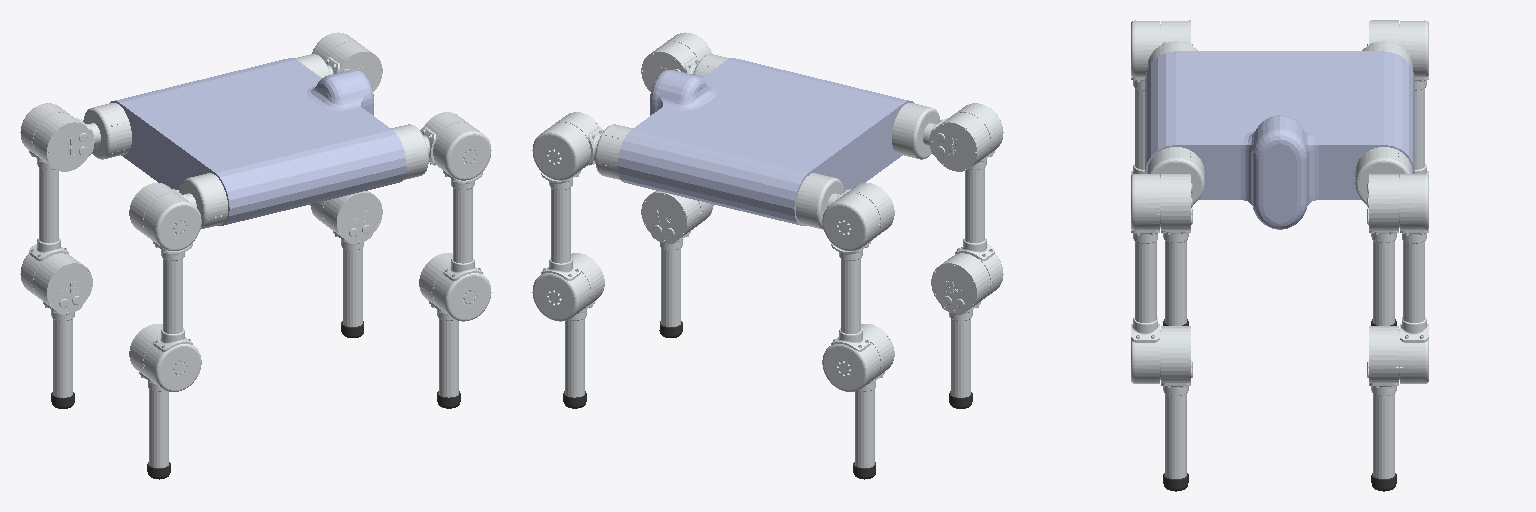
The robot description file, URDF, robot "dog1":
<?xml version="1.0" encoding="utf-8"?>
<robot
  name="dog1">
  <link
    name="base_link">
    <inertial>
      <origin
        xyz="0.018041 -3.0664E-06 0.1542"
        rpy="0 0 0" />
      <mass
        value="15.15" />
      <inertia
        ixx="0.3104"
        ixy="-8.4181E-07"
        ixz="-1.173E-07"
        iyy="0.5261"
        iyz="-2.9373E-06"
        izz="0.7498" />
    </inertial>
    <visual>
      <origin
        xyz="0 0 0"
        rpy="0 0 0" />
      <geometry>
        <mesh
          filename="../meshes/base_link.STL" />
      </geometry>
      <material
        name="silver">
        <color
          rgba="0.79216 0.81961 0.93333 1" />
      </material>
    </visual>
    <collision>
      <origin
        xyz="0 0 0"
        rpy="0 0 0" />
      <geometry>
        <mesh
          filename="../meshes/base_link.STL" />
      </geometry>
    </collision>
  </link>
  <link
    name="Front_Left_Hip">
    <inertial>
      <origin
        xyz="3.0188E-05 0.0046117 0.045906"
        rpy="0 0 0" />
      <mass
        value="5.55" />
      <inertia
        ixx="0.01586"
        ixy="-2.3899E-06"
        ixz="9.7549E-07"
        iyy="0.02045"
        iyz="-5.0146E-06"
        izz="0.01987" />
    </inertial>
    <visual>
      <origin
        xyz="0 0 0"
        rpy="0 0 0" />
      <geometry>
        <mesh
          filename="../meshes/Front_Left_Hip.STL" />
      </geometry>
      <material
        name="grey">
        <color
          rgba="0.89804 0.91765 0.92941 1" />
      </material>
    </visual>
    <collision>
      <origin
        xyz="0 0 0"
        rpy="0 0 0" />
      <geometry>
        <mesh
          filename="../meshes/Front_Left_Hip.STL" />
      </geometry>
    </collision>
  </link>
  <joint
    name="Joint_1_0"
    type="revolute">
    <origin
      xyz="0.37861 0.28195 0.15421"
      rpy="0 1.5708 0" />
    <parent
      link="base_link" />
    <child
      link="Front_Left_Hip" />
    <axis
      xyz="0 0 1" />
    <limit
      lower="-0.45"
      upper="0.45"
      effort="408"
      velocity="3.27" />
  </joint>
  <link
    name="Front_Left_Thigh">
    <inertial>
      <origin
        xyz="-1.1102E-16 0.228 -0.031844"
        rpy="0 0 0" />
      <mass
        value="5.5" />
      <inertia
        ixx="0.01587"
        ixy="-1.5776E-09"
        ixz="1.5572E-18"
        iyy="0.01483"
        iyz="3.4061E-18"
        izz="0.02377" />
    </inertial>
    <visual>
      <origin
        xyz="0 0 0"
        rpy="0 0 0" />
      <geometry>
        <mesh
          filename="../meshes/Front_Left_Thigh.STL" />
      </geometry>
      <material
        name="grey">
        <color
          rgba="0.89804 0.91765 0.92941 1" />
      </material>
    </visual>
    <collision>
      <origin
        xyz="0 0 0"
        rpy="0 0 0" />
      <geometry>
        <mesh
          filename="../meshes/Front_Left_Thigh.STL" />
      </geometry>
    </collision>
  </link>
  <joint
    name="Joint_1_1"
    type="revolute">
    <origin
      xyz="0 0.122 0.109"
      rpy="-1.5708 -1.5708 0" />
    <parent
      link="Front_Left_Hip" />
    <child
      link="Front_Left_Thigh" />
    <axis
      xyz="0 0 1" />
    <limit
      lower="-1.2"
      upper="1.2"
      effort="408"
      velocity="3.27" />
  </joint>
  <link
    name="Front_Left_Calf">
    <inertial>
      <origin
        xyz="2.895E-06 0.021826 0.034587"
        rpy="0 0 0" />
      <mass
        value="3.11" />
      <inertia
        ixx="0.009868"
        ixy="-1.0337E-07"
        ixz="-3.5741E-07"
        iyy="0.00872"
        iyz="3.6081E-06"
        izz="0.014035" />
    </inertial>
    <visual>
      <origin
        xyz="0 0 0"
        rpy="0 0 0" />
      <geometry>
        <mesh
          filename="../meshes/Front_Left_Calf.STL" />
      </geometry>
      <material
        name="grey">
        <color
          rgba="0.89804 0.91765 0.92941 1" />
      </material>
    </visual>
    <collision>
      <origin
        xyz="0 0 0"
        rpy="0 0 0" />
      <geometry>
        <mesh
          filename="../meshes/Front_Left_Calf.STL" />
      </geometry>
    </collision>
  </link>
  <joint
    name="Joint_1_2"
    type="revolute">
    <origin
      xyz="0 0.456 -0.149"
      rpy="0 0 0" />
    <parent
      link="Front_Left_Thigh" />
    <child
      link="Front_Left_Calf" />
    <axis
      xyz="0 0 1" />
    <limit
      lower="0"
      upper="1.5"
      effort="408"
      velocity="3.27" />
  </joint>
  <link
    name="Front_Left_Foot">
    <inertial>
      <origin
        xyz="5.5511E-17 0 0.0252"
        rpy="0 0 0" />
      <mass
        value="0.09" />
      <inertia
        ixx="3.6266E-05"
        ixy="-5.626E-22"
        ixz="3.5174E-20"
        iyy="3.6266E-05"
        iyz="4.5141E-21"
        izz="5.6492E-05" />
    </inertial>
    <visual>
      <origin
        xyz="0 0 0"
        rpy="0 0 0" />
      <geometry>
        <mesh
          filename="../meshes/Front_Left_Foot.STL" />
      </geometry>
      <material
        name="dark_grey">
        <color
          rgba="0.29804 0.29804 0.29804 1" />
      </material>
    </visual>
    <collision>
      <origin
        xyz="0 0 0"
        rpy="0 0 0" />
      <geometry>
        <mesh
          filename="../meshes/Front_Left_Foot.STL" />
      </geometry>
    </collision>
  </link>
  <joint
    name="Joint_1_3"
    type="fixed">
    <origin
      xyz="0 0.358 0.027"
      rpy="-1.5708 0 0" />
    <parent
      link="Front_Left_Calf" />
    <child
      link="Front_Left_Foot" />
    <axis
      xyz="0 0 0" />
  </joint>
  <link
    name="Front_Right_Hip">
    <inertial>
      <origin
        xyz="2.6625E-05 -0.0047247 0.045906"
        rpy="0 0 0" />
      <mass
        value="5.55" />
      <inertia
        ixx="0.01586"
        ixy="-2.3899E-06"
        ixz="7.6919E-07"
        iyy="0.02045"
        iyz="2.2016E-06"
        izz="0.01987" />
    </inertial>
    <visual>
      <origin
        xyz="0 0 0"
        rpy="0 0 0" />
      <geometry>
        <mesh
          filename="../meshes/Front_Right_Hip.STL" />
      </geometry>
      <material
        name="grey">
        <color
          rgba="0.89804 0.91765 0.92941 1" />
      </material>
    </visual>
    <collision>
      <origin
        xyz="0 0 0"
        rpy="0 0 0" />
      <geometry>
        <mesh
          filename="../meshes/Front_Right_Hip.STL" />
      </geometry>
    </collision>
  </link>
  <joint
    name="Joint_2_0"
    type="revolute">
    <origin
      xyz="0.37861 -0.28195 0.15421"
      rpy="0 1.5708 0" />
    <parent
      link="base_link" />
    <child
      link="Front_Right_Hip" />
    <axis
      xyz="0 0 1" />
    <limit
      lower="-0.45"
      upper="0.45"
      effort="408"
      velocity="3.27" />
  </joint>
  <link
    name="Front_Right_Thigh">
    <inertial>
      <origin
        xyz="1.1102E-16 -0.228 -0.031844"
        rpy="0 0 0" />
      <mass
        value="5.5" />
      <inertia
        ixx="0.01587"
        ixy="-1.5776E-09"
        ixz="-3.0209E-18"
        iyy="0.01483"
        iyz="2.2418E-18"
        izz="0.02377" />
    </inertial>
    <visual>
      <origin
        xyz="0 0 0"
        rpy="0 0 0" />
      <geometry>
        <mesh
          filename="../meshes/Front_Right_Thigh.STL" />
      </geometry>
      <material
        name="grey">
        <color
          rgba="0.89804 0.91765 0.92941 1" />
      </material>
    </visual>
    <collision>
      <origin
        xyz="0 0 0"
        rpy="0 0 0" />
      <geometry>
        <mesh
          filename="../meshes/Front_Right_Thigh.STL" />
      </geometry>
    </collision>
  </link>
  <joint
    name="Joint_2_1"
    type="revolute">
    <origin
      xyz="0 -0.122 0.109"
      rpy="1.5708 -1.5708 0" />
    <parent
      link="Front_Right_Hip" />
    <child
      link="Front_Right_Thigh" />
    <axis
      xyz="0 0 1" />
    <limit
      lower="-1.2"
      upper="1.2"
      effort="408"
      velocity="3.27" />
  </joint>
  <link
    name="Front_Right_Calf">
    <inertial>
      <origin
        xyz="-2.895E-06 -0.021826 0.034587"
        rpy="0 0 0" />
      <mass
        value="3.11" />
      <inertia
        ixx="0.009868"
        ixy="-1.0337E-07"
        ixz="3.5741E-07"
        iyy="0.00872"
        iyz="-3.6081E-06"
        izz="0.014035" />
    </inertial>
    <visual>
      <origin
        xyz="0 0 0"
        rpy="0 0 0" />
      <geometry>
        <mesh
          filename="../meshes/Front_Right_Calf.STL" />
      </geometry>
      <material
        name="grey">
        <color
          rgba="0.89804 0.91765 0.92941 1" />
      </material>
    </visual>
    <collision>
      <origin
        xyz="0 0 0"
        rpy="0 0 0" />
      <geometry>
        <mesh
          filename="../meshes/Front_Right_Calf.STL" />
      </geometry>
    </collision>
  </link>
  <joint
    name="Joint_2_2"
    type="revolute">
    <origin
      xyz="0 -0.456 -0.149"
      rpy="0 0 0" />
    <parent
      link="Front_Right_Thigh" />
    <child
      link="Front_Right_Calf" />
    <axis
      xyz="0 0 1" />
    <limit
      lower="0"
      upper="1.5"
      effort="408"
      velocity="3.27" />
  </joint>
  <link
    name="Front_Right_Foot">
    <inertial>
      <origin
        xyz="5.5511E-17 0 0.0252"
        rpy="0 0 0" />
      <mass
        value="0.09" />
      <inertia
        ixx="3.6266E-05"
        ixy="-2.6567E-21"
        ixz="2.2051E-20"
        iyy="3.6266E-05"
        iyz="-5.6299E-21"
        izz="5.6492E-05" />
    </inertial>
    <visual>
      <origin
        xyz="0 0 0"
        rpy="0 0 0" />
      <geometry>
        <mesh
          filename="../meshes/Front_Right_Foot.STL" />
      </geometry>
      <material
        name="dark_grey">
        <color
          rgba="0.29804 0.29804 0.29804 1" />
      </material>
    </visual>
    <collision>
      <origin
        xyz="0 0 0"
        rpy="0 0 0" />
      <geometry>
        <mesh
          filename="../meshes/Front_Right_Foot.STL" />
      </geometry>
    </collision>
  </link>
  <joint
    name="Joint_2_3"
    type="fixed">
    <origin
      xyz="0 -0.358 0.027"
      rpy="1.5708 0 0" />
    <parent
      link="Front_Right_Calf" />
    <child
      link="Front_Right_Foot" />
    <axis
      xyz="0 0 1" />
  </joint>
  <link
    name="Back_Left_Hip">
    <inertial>
      <origin
        xyz="3.9932E-06 -0.0047312 0.045906"
        rpy="0 0 0" />
      <mass
        value="5.55" />
      <inertia
        ixx="0.01586"
        ixy="-7.0884E-07"
        ixz="1.9502E-07"
        iyy="0.02045"
        iyz="1.9796E-06"
        izz="0.01987" />
    </inertial>
    <visual>
      <origin
        xyz="0 0 0"
        rpy="0 0 0" />
      <geometry>
        <mesh
          filename="../meshes/Back_Left_Hip.STL" />
      </geometry>
      <material
        name="grey">
        <color
          rgba="0.89804 0.91765 0.92941 1" />
      </material>
    </visual>
    <collision>
      <origin
        xyz="0 0 0"
        rpy="0 0 0" />
      <geometry>
        <mesh
          filename="../meshes/Back_Left_Hip.STL" />
      </geometry>
    </collision>
  </link>
  <joint
    name="Joint_4_0"
    type="revolute">
    <origin
      xyz="-0.38539 0.28195 0.15421"
      rpy="3.1416 1.5708 0" />
    <parent
      link="base_link" />
    <child
      link="Back_Left_Hip" />
    <axis
      xyz="0 0 1" />
    <limit
      lower="-0.45"
      upper="0.45"
      effort="408"
      velocity="3.27" />
  </joint>
  <link
    name="Back_Left_Thigh">
    <inertial>
      <origin
        xyz="-5.5511E-17 0.228 -0.031844"
        rpy="0 0 0" />
      <mass
        value="5.5" />
      <inertia
        ixx="0.01587"
        ixy="-1.5776E-09"
        ixz="-5.8466E-18"
        iyy="0.01483"
        iyz="2.3922E-18"
        izz="0.02377" />
    </inertial>
    <visual>
      <origin
        xyz="0 0 0"
        rpy="0 0 0" />
      <geometry>
        <mesh
          filename="../meshes/Back_Left_Thigh.STL" />
      </geometry>
      <material
        name="grey">
        <color
          rgba="0.89804 0.91765 0.92941 1" />
      </material>
    </visual>
    <collision>
      <origin
        xyz="0 0 0"
        rpy="0 0 0" />
      <geometry>
        <mesh
          filename="../meshes/Back_Left_Thigh.STL" />
      </geometry>
    </collision>
  </link>
  <joint
    name="Joint_4_1"
    type="revolute">
    <origin
      xyz="0 -0.122 0.109"
      rpy="1.5708 1.5708 0" />
    <parent
      link="Back_Left_Hip" />
    <child
      link="Back_Left_Thigh" />
    <axis
      xyz="0 0 1" />
    <limit
      lower="-1.2"
      upper="1.2"
      effort="408"
      velocity="3.27" />
  </joint>
  <link
    name="Back_Left_Calf">
    <inertial>
      <origin
        xyz="2.8412E-06 0.021826 0.034587"
        rpy="0 0 0" />
      <mass
        value="3.11" />
      <inertia
        ixx="0.009868"
        ixy="-1.0147E-07"
        ixz="-3.5741E-07"
        iyy="0.00872"
        iyz="3.6079E-06"
        izz="0.014035" />
    </inertial>
    <visual>
      <origin
        xyz="0 0 0"
        rpy="0 0 0" />
      <geometry>
        <mesh
          filename="../meshes/Back_Left_Calf.STL" />
      </geometry>
      <material
        name="grey">
        <color
          rgba="0.89804 0.91765 0.92941 1" />
      </material>
    </visual>
    <collision>
      <origin
        xyz="0 0 0"
        rpy="0 0 0" />
      <geometry>
        <mesh
          filename="../meshes/Back_Left_Calf.STL" />
      </geometry>
    </collision>
  </link>
  <joint
    name="Joint_4_2"
    type="revolute">
    <origin
      xyz="0 0.456 -0.149"
      rpy="0 0 0" />
    <parent
      link="Back_Left_Thigh" />
    <child
      link="Back_Left_Calf" />
    <axis
      xyz="0 0 1" />
    <limit
      lower="0"
      upper="1.5"
      effort="408"
      velocity="3.27" />
  </joint>
  <link
    name="Back_Left_Foot">
    <inertial>
      <origin
        xyz="1.1102E-16 5.5511E-17 0.0252"
        rpy="0 0 0" />
      <mass
        value="0.09" />
      <inertia
        ixx="3.6266E-05"
        ixy="-1.6201E-21"
        ixz="1.5997E-20"
        iyy="3.6266E-05"
        iyz="1.0357E-20"
        izz="5.6492E-05" />
    </inertial>
    <visual>
      <origin
        xyz="0 0 0"
        rpy="0 0 0" />
      <geometry>
        <mesh
          filename="../meshes/Back_Left_Foot.STL" />
      </geometry>
      <material
        name="dark_grey">
        <color
          rgba="0.29804 0.29804 0.29804 1" />
      </material>
    </visual>
    <collision>
      <origin
        xyz="0 0 0"
        rpy="0 0 0" />
      <geometry>
        <mesh
          filename="../meshes/Back_Left_Foot.STL" />
      </geometry>
    </collision>
  </link>
  <joint
    name="Joint_4_3"
    type="fixed">
    <origin
      xyz="0 0.358 0.027"
      rpy="-1.5708 0 0" />
    <parent
      link="Back_Left_Calf" />
    <child
      link="Back_Left_Foot" />
    <axis
      xyz="0 0 0" />
  </joint>
  <link
    name="Back_Right_Hip">
    <inertial>
      <origin
        xyz="-4.3878E-05 0.0046245 0.045906"
        rpy="0 0 0" />
      <mass
        value="5.55" />
      <inertia
        ixx="0.01587"
        ixy="2.2606E-06"
        ixz="-9.8477E-07"
        iyy="0.02044"
        iyz="-4.8554E-06"
        izz="0.01987" />
    </inertial>
    <visual>
      <origin
        xyz="0 0 0"
        rpy="0 0 0" />
      <geometry>
        <mesh
          filename="../meshes/Back_Right_Hip.STL" />
      </geometry>
      <material
        name="grey">
        <color
          rgba="0.89804 0.91765 0.92941 1" />
      </material>
    </visual>
    <collision>
      <origin
        xyz="0 0 0"
        rpy="0 0 0" />
      <geometry>
        <mesh
          filename="../meshes/Back_Right_Hip.STL" />
      </geometry>
    </collision>
  </link>
  <joint
    name="Joint_3_0"
    type="revolute">
    <origin
      xyz="-0.38539 -0.28195 0.15421"
      rpy="3.1416 1.5708 0" />
    <parent
      link="base_link" />
    <child
      link="Back_Right_Hip" />
    <axis
      xyz="0 0 1" />
    <limit
      lower="-0.45"
      upper="0.45"
      effort="408"
      velocity="3.27" />
  </joint>
  <link
    name="Back_Right_Thigh">
    <inertial>
      <origin
        xyz="3.4138E-08 -0.228 -0.031844"
        rpy="0 0 0" />
      <mass
        value="5.5" />
      <inertia
        ixx="0.01587"
        ixy="-3.483E-09"
        ixz="-9.7919E-19"
        iyy="0.01483"
        iyz="1.8796E-10"
        izz="0.02377" />
    </inertial>
    <visual>
      <origin
        xyz="0 0 0"
        rpy="0 0 0" />
      <geometry>
        <mesh
          filename="../meshes/Back_Right_Thigh.STL" />
      </geometry>
      <material
        name="grey">
        <color
          rgba="0.89804 0.91765 0.92941 1" />
      </material>
    </visual>
    <collision>
      <origin
        xyz="0 0 0"
        rpy="0 0 0" />
      <geometry>
        <mesh
          filename="../meshes/Back_Right_Thigh.STL" />
      </geometry>
    </collision>
  </link>
  <joint
    name="Joint_3_1"
    type="revolute">
    <origin
      xyz="0 0.122 0.109"
      rpy="-1.5708 1.5708 0" />
    <parent
      link="Back_Right_Hip" />
    <child
      link="Back_Right_Thigh" />
    <axis
      xyz="0 0 1" />
    <limit
      lower="-1.2"
      upper="1.2"
      effort="408"
      velocity="3.27" />
  </joint>
  <link
    name="Back_Right_Calf">
    <inertial>
      <origin
        xyz="-2.8412E-06 -0.021826 0.034587"
        rpy="0 0 0" />
      <mass
        value="3.11" />
      <inertia
        ixx="0.009868"
        ixy="-1.0147E-07"
        ixz="3.5741E-07"
        iyy="0.00872"
        iyz="-3.6079E-06"
        izz="0.014035" />
    </inertial>
    <visual>
      <origin
        xyz="0 0 0"
        rpy="0 0 0" />
      <geometry>
        <mesh
          filename="../meshes/Back_Right_Calf.STL" />
      </geometry>
      <material
        name="grey">
        <color
          rgba="0.89804 0.91765 0.92941 1" />
      </material>
    </visual>
    <collision>
      <origin
        xyz="0 0 0"
        rpy="0 0 0" />
      <geometry>
        <mesh
          filename="../meshes/Back_Right_Calf.STL" />
      </geometry>
    </collision>
  </link>
  <joint
    name="Joint_3_2"
    type="revolute">
    <origin
      xyz="0 -0.456 -0.149"
      rpy="0 0 0" />
    <parent
      link="Back_Right_Thigh" />
    <child
      link="Back_Right_Calf" />
    <axis
      xyz="0 0 1" />
    <limit
      lower="0"
      upper="1.5"
      effort="408"
      velocity="3.27" />
  </joint>
  <link
    name="Back_Right_Foot">
    <inertial>
      <origin
        xyz="0 0 0.0252"
        rpy="0 0 0" />
      <mass
        value="0.09" />
      <inertia
        ixx="3.6266E-05"
        ixy="-5.9073E-21"
        ixz="3.4181E-20"
        iyy="3.6266E-05"
        iyz="2.4762E-21"
        izz="5.6492E-05" />
    </inertial>
    <visual>
      <origin
        xyz="0 0 0"
        rpy="0 0 0" />
      <geometry>
        <mesh
          filename="../meshes/Back_Right_Foot.STL" />
      </geometry>
      <material
        name="dark_grey">
        <color
          rgba="0.29804 0.29804 0.29804 1" />
      </material>
    </visual>
    <collision>
      <origin
        xyz="0 0 0"
        rpy="0 0 0" />
      <geometry>
        <mesh
          filename="../meshes/Back_Right_Foot.STL" />
      </geometry>
    </collision>
  </link>
  <joint
    name="Joint_3_3"
    type="fixed">
    <origin
      xyz="0 -0.358 0.027"
      rpy="1.5708 0 0" />
    <parent
      link="Back_Right_Calf" />
    <child
      link="Back_Right_Foot" />
    <axis
      xyz="0 0 1" />
  </joint>
</robot>

--- Facts derived from the render (not from the file) ---
Views: 3 orthographic renders of the robot side by side, from view 1: azimuth 30°, elevation 25°; view 2: azimuth 150°, elevation 25°; view 3: azimuth 270°, elevation 25°.
Model dog1 with 17 links and 16 joints (12 revolute, 4 fixed), rooted at base_link, posed every joint at zero.
Links seen in each view (by area): view 1: base_link, Back_Right_Thigh, Front_Right_Thigh, Back_Left_Hip, Back_Left_Calf, Front_Left_Calf, Back_Left_Thigh, Back_Right_Hip, Front_Right_Calf, Back_Right_Calf, Front_Right_Hip, Front_Left_Hip (+1 smaller); view 2: base_link, Back_Left_Thigh, Front_Left_Thigh, Back_Right_Hip, Back_Right_Calf, Front_Right_Calf, Back_Right_Thigh, Back_Left_Hip, Front_Left_Calf, Back_Left_Calf, Front_Left_Hip, Front_Right_Hip (+1 smaller); view 3: base_link, Front_Left_Thigh, Front_Right_Thigh, Front_Left_Calf, Front_Right_Calf, Front_Left_Hip, Front_Right_Hip, Back_Left_Thigh, Back_Right_Thigh, Back_Left_Calf, Back_Right_Calf, Back_Left_Hip (+1 smaller).
Link boxes in pixels (x1=…): base_link: x1=110, y1=58, x2=406, y2=225; Back_Right_Thigh: x1=143, y1=193, x2=201, y2=391; Front_Right_Thigh: x1=433, y1=122, x2=491, y2=321; Back_Left_Hip: x1=33, y1=103, x2=131, y2=171; Back_Left_Calf: x1=33, y1=253, x2=92, y2=397; Front_Left_Calf: x1=323, y1=191, x2=382, y2=326; Back_Left_Thigh: x1=20, y1=103, x2=68, y2=295; Back_Right_Hip: x1=129, y1=173, x2=227, y2=237; Front_Right_Calf: x1=419, y1=253, x2=475, y2=397; Back_Right_Calf: x1=129, y1=324, x2=185, y2=467; Front_Right_Hip: x1=391, y1=112, x2=475, y2=179; Front_Left_Hip: x1=294, y1=42, x2=382, y2=91; base_link: x1=617, y1=58, x2=914, y2=225; Back_Left_Thigh: x1=822, y1=193, x2=880, y2=391; Front_Left_Thigh: x1=532, y1=122, x2=590, y2=321; Back_Right_Hip: x1=892, y1=103, x2=990, y2=171; Back_Right_Calf: x1=931, y1=253, x2=990, y2=397; Front_Right_Calf: x1=641, y1=191, x2=700, y2=326; Back_Right_Thigh: x1=955, y1=103, x2=1003, y2=295; Back_Left_Hip: x1=796, y1=173, x2=894, y2=237; Front_Left_Calf: x1=548, y1=253, x2=604, y2=397; Back_Left_Calf: x1=838, y1=324, x2=894, y2=467; Front_Left_Hip: x1=548, y1=112, x2=632, y2=179; Front_Right_Hip: x1=641, y1=42, x2=729, y2=91; base_link: x1=1145, y1=51, x2=1414, y2=229; Front_Left_Thigh: x1=1400, y1=174, x2=1428, y2=383; Front_Right_Thigh: x1=1131, y1=174, x2=1159, y2=383; Front_Left_Calf: x1=1367, y1=326, x2=1399, y2=478; Front_Right_Calf: x1=1160, y1=326, x2=1192, y2=478; Front_Left_Hip: x1=1355, y1=147, x2=1412, y2=230; Front_Right_Hip: x1=1147, y1=147, x2=1204, y2=230; Back_Left_Thigh: x1=1400, y1=20, x2=1428, y2=174; Back_Right_Thigh: x1=1131, y1=20, x2=1159, y2=174; Back_Left_Calf: x1=1367, y1=208, x2=1398, y2=325; Back_Right_Calf: x1=1161, y1=208, x2=1192, y2=325; Back_Left_Hip: x1=1362, y1=20, x2=1412, y2=68.
Size in the robot's own frame: 1.14 by 0.8079 by 1 metres.
Meshes: 17 distinct files referenced, 17 mesh visuals loaded (17 binary STL).
